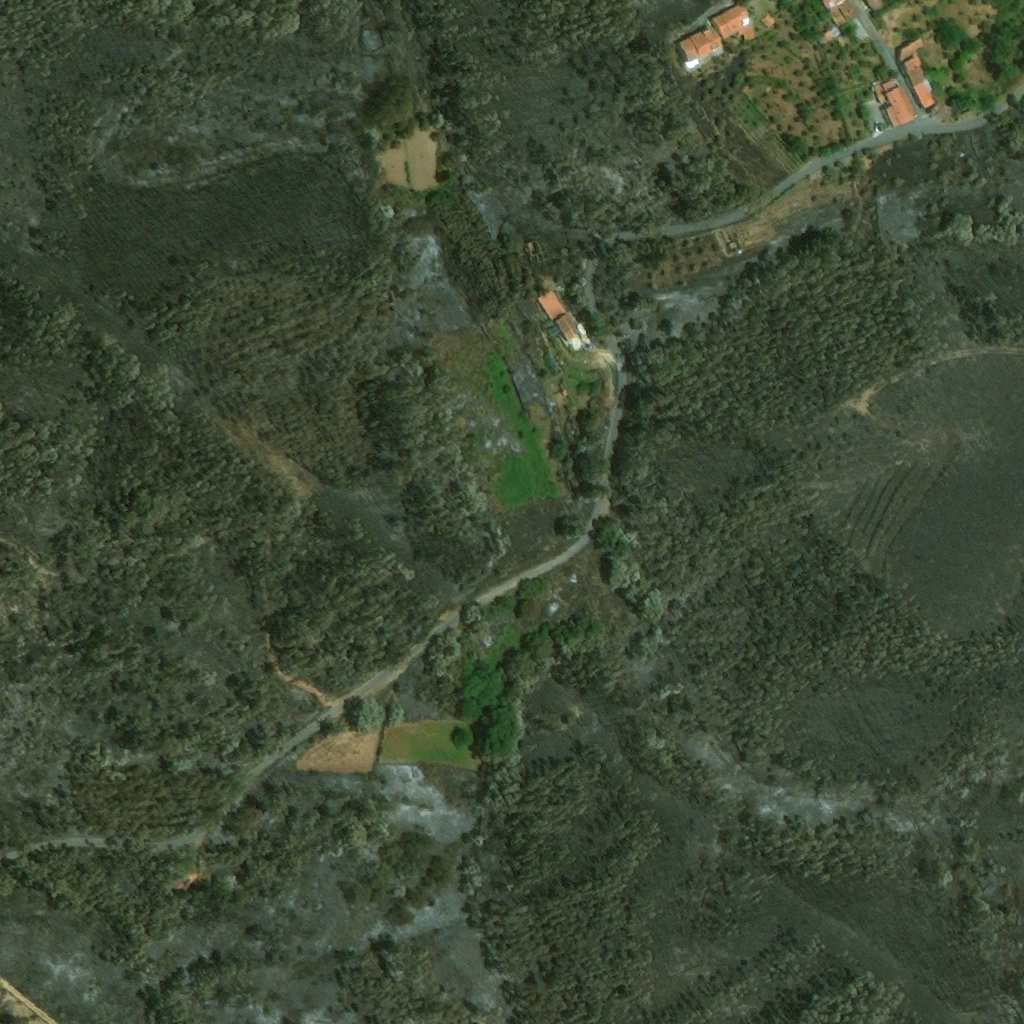0 no-damage: (904, 55, 935, 108), (882, 80, 916, 125), (712, 2, 750, 40), (539, 289, 567, 320), (701, 25, 725, 52), (691, 32, 714, 59), (555, 315, 578, 340), (898, 39, 923, 60), (679, 37, 698, 62), (839, 2, 859, 20), (818, 28, 835, 45), (739, 27, 758, 41), (866, 0, 886, 13), (873, 83, 886, 103), (761, 13, 776, 29), (528, 240, 544, 255), (576, 322, 588, 335), (828, 26, 840, 37), (586, 340, 596, 349), (870, 85, 875, 92)
4 un-classified: (542, 347, 558, 372)
